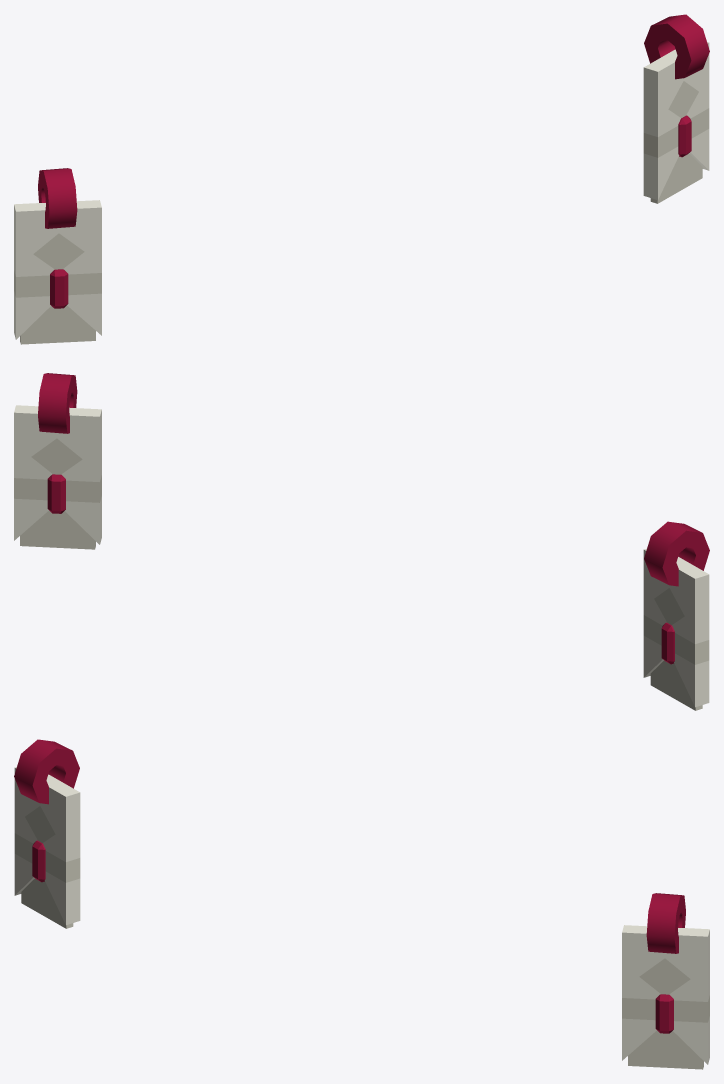
Rendered from Earring_18.fbx.
3 views of the same model, one above another, from view 1: azimuth 30°, elevation 25°; view 2: azimuth 150°, elevation 25°; view 3: azimuth 330°, elevation 25° (orthographic).
Visible parts, largest first — view 1: Earring_18; view 2: Earring_18; view 3: Earring_18.
Part boxes in pixels (left/top/right/bottom): Earring_18: left=14, top=14, right=709, bottom=344; Earring_18: left=14, top=373, right=709, bottom=710; Earring_18: left=14, top=739, right=709, bottom=1069.
Size of the model in its own units: 56.74 by 13.36 by 4.86.
